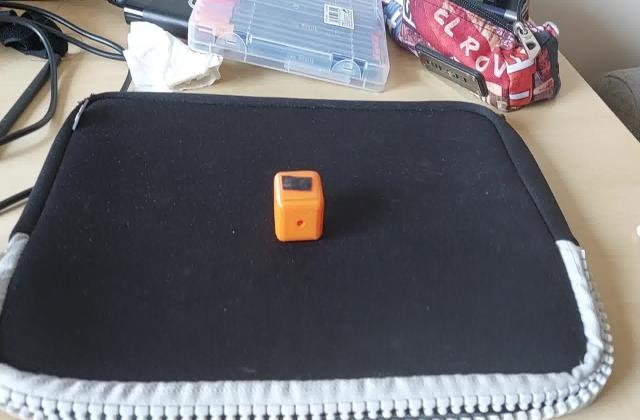black: (280, 174, 317, 196)
cube: (270, 169, 324, 244)
